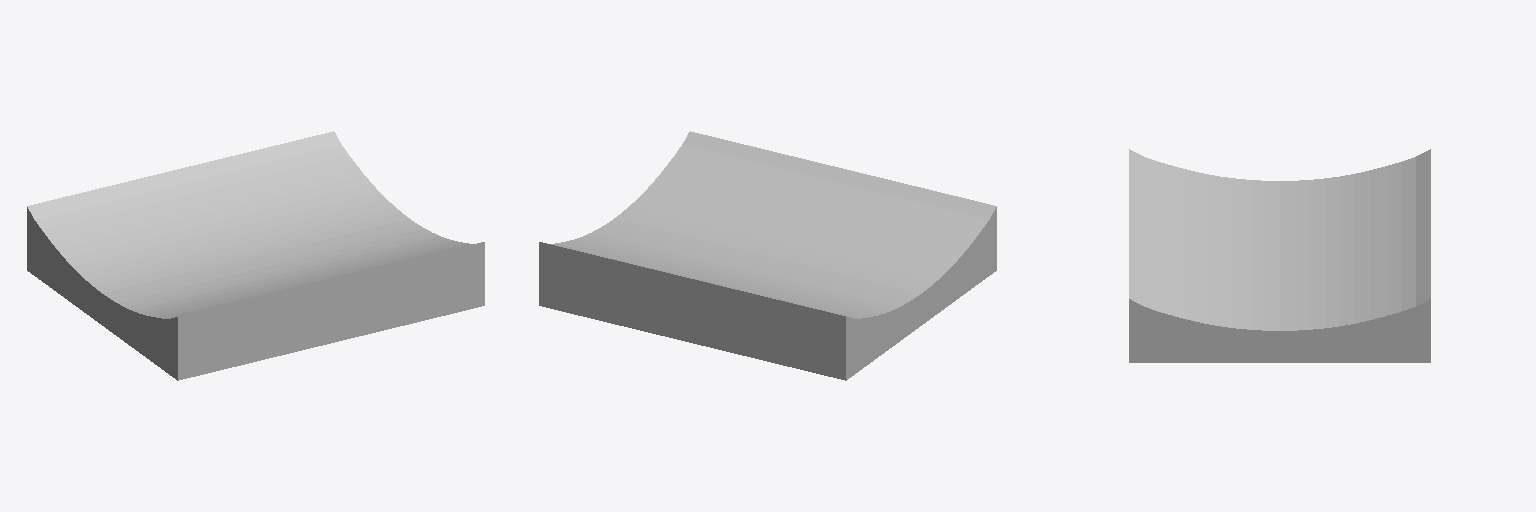
File: straightdip1.obj
The picture shows the model from 3 angles: view 1: azimuth 30°, elevation 25°; view 2: azimuth 150°, elevation 25°; view 3: azimuth 270°, elevation 25°; orthographic projection.
Parts seen in each view (by area): view 1: Cube; view 2: Cube; view 3: Cube.
Boxes of the visible parts, box(x1,y1,x2,y2) form: Cube: box(27, 131, 484, 380); Cube: box(539, 131, 996, 380); Cube: box(1129, 149, 1430, 362).
Size of the model in its own units: 10 by 2 by 8.5.